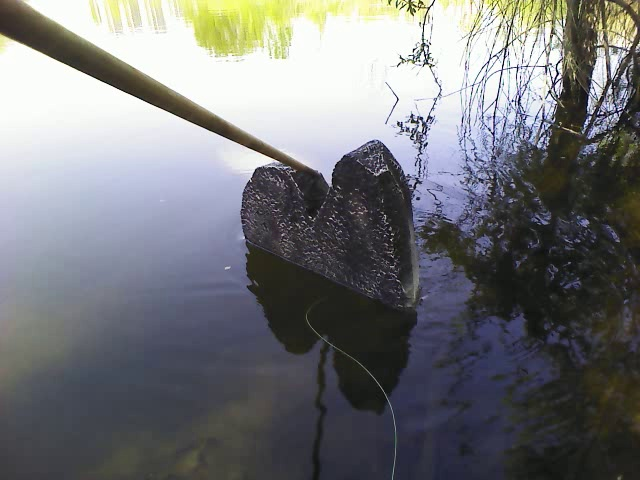rock: (238, 139, 422, 306)
